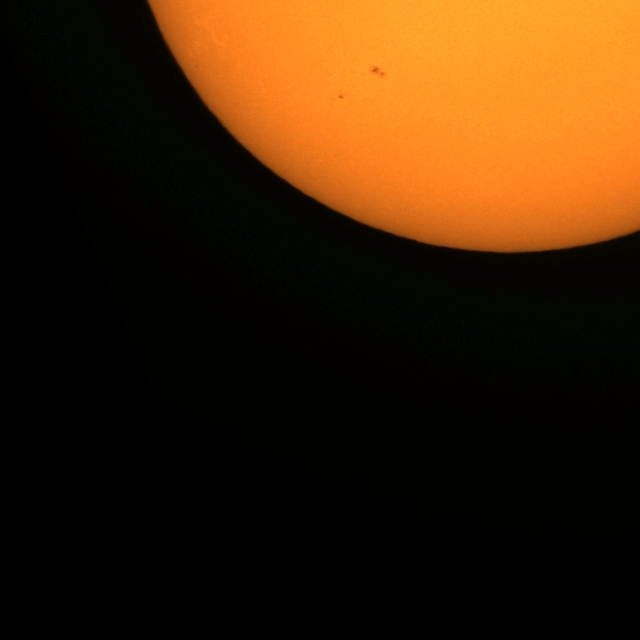sunspot: (370, 66, 386, 78), (335, 94, 345, 101)
